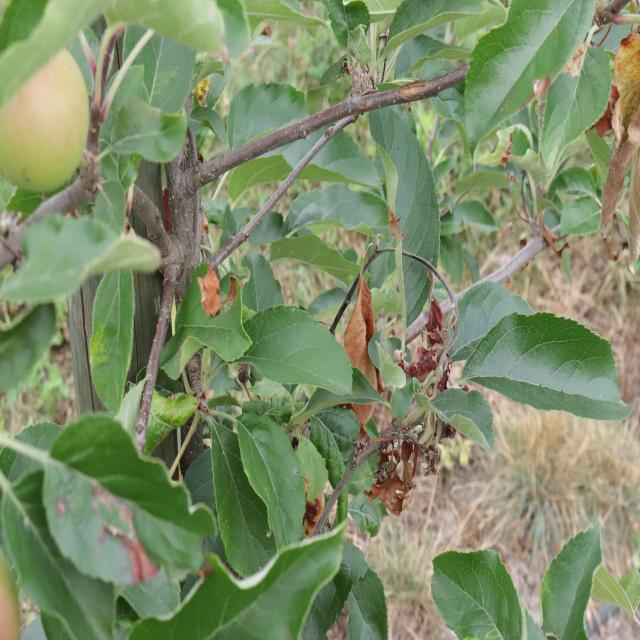-FireBlight-: (345, 305, 465, 516), (590, 39, 640, 269), (336, 264, 383, 402), (196, 262, 223, 313)
